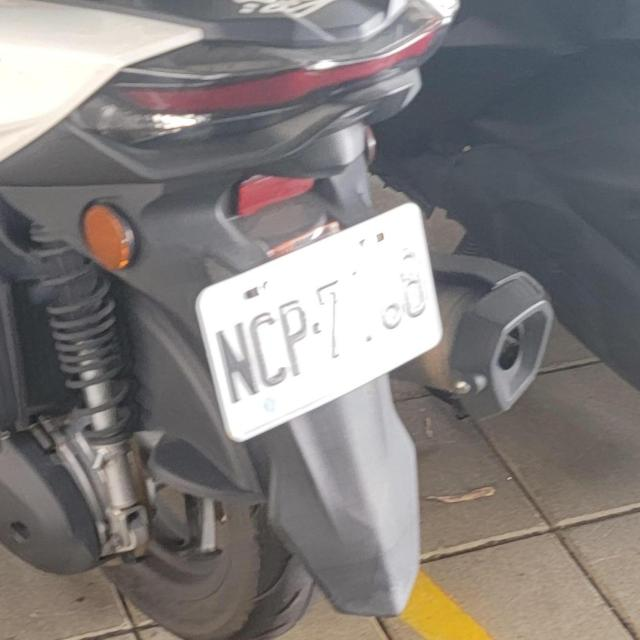W: (176, 202, 463, 454)
